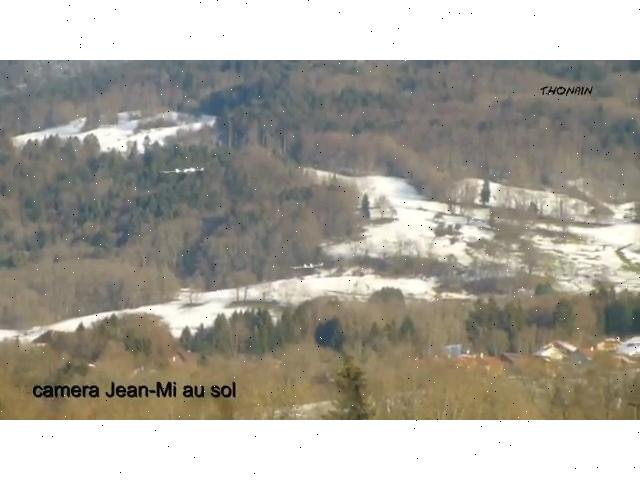Anti-Drone: (150, 164, 216, 179)
